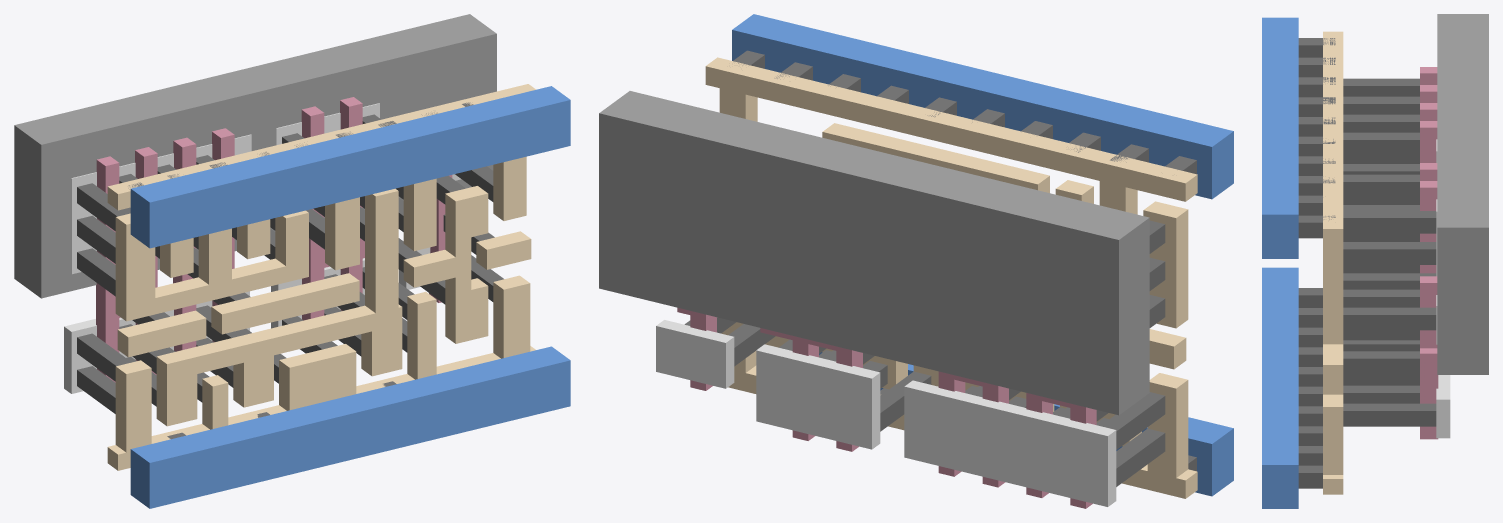
Rendered from sky130_fd_sc_hd__nor3b_2.gds.gltf.
3 views of the same model, side by side, from view 1: azimuth 30°, elevation 25°; view 2: azimuth 150°, elevation 25°; view 3: azimuth 270°, elevation 25° (orthographic). The views are drawn at different scales.
Parts seen in each view (by area): view 1: sky130_fd_sc_hd__nor3b_2_li1, sky130_fd_sc_hd__nor3b_2_met1, sky130_fd_sc_hd__nor3b_2_nwell, sky130_fd_sc_hd__nor3b_2_licon, sky130_fd_sc_hd__nor3b_2_poly, sky130_fd_sc_hd__nor3b_2_diff; view 2: sky130_fd_sc_hd__nor3b_2_nwell, sky130_fd_sc_hd__nor3b_2_li1, sky130_fd_sc_hd__nor3b_2_diff, sky130_fd_sc_hd__nor3b_2_met1, sky130_fd_sc_hd__nor3b_2_licon, sky130_fd_sc_hd__nor3b_2_poly, sky130_fd_sc_hd__nor3b_2_mcon; view 3: sky130_fd_sc_hd__nor3b_2_licon, sky130_fd_sc_hd__nor3b_2_nwell, sky130_fd_sc_hd__nor3b_2_met1, sky130_fd_sc_hd__nor3b_2_mcon, sky130_fd_sc_hd__nor3b_2_li1, sky130_fd_sc_hd__nor3b_2_poly, sky130_fd_sc_hd__nor3b_2_diff.
Boxes of the visible parts, bbox=[...] form: sky130_fd_sc_hd__nor3b_2_li1: bbox=[107, 84, 535, 470]; sky130_fd_sc_hd__nor3b_2_met1: bbox=[130, 86, 570, 508]; sky130_fd_sc_hd__nor3b_2_nwell: bbox=[14, 14, 496, 298]; sky130_fd_sc_hd__nor3b_2_licon: bbox=[77, 114, 503, 413]; sky130_fd_sc_hd__nor3b_2_poly: bbox=[96, 97, 452, 382]; sky130_fd_sc_hd__nor3b_2_diff: bbox=[64, 103, 461, 393]; sky130_fd_sc_hd__nor3b_2_nwell: bbox=[599, 91, 1149, 415]; sky130_fd_sc_hd__nor3b_2_li1: bbox=[705, 57, 1197, 498]; sky130_fd_sc_hd__nor3b_2_diff: bbox=[656, 320, 1116, 506]; sky130_fd_sc_hd__nor3b_2_met1: bbox=[732, 14, 1233, 496]; sky130_fd_sc_hd__nor3b_2_licon: bbox=[684, 220, 1165, 486]; sky130_fd_sc_hd__nor3b_2_poly: bbox=[677, 307, 1096, 508]; sky130_fd_sc_hd__nor3b_2_mcon: bbox=[733, 50, 1196, 471]; sky130_fd_sc_hd__nor3b_2_licon: bbox=[1343, 78, 1436, 426]; sky130_fd_sc_hd__nor3b_2_nwell: bbox=[1437, 14, 1488, 374]; sky130_fd_sc_hd__nor3b_2_met1: bbox=[1262, 17, 1298, 508]; sky130_fd_sc_hd__nor3b_2_mcon: bbox=[1298, 38, 1335, 488]; sky130_fd_sc_hd__nor3b_2_li1: bbox=[1323, 31, 1343, 494]; sky130_fd_sc_hd__nor3b_2_poly: bbox=[1420, 67, 1438, 439]; sky130_fd_sc_hd__nor3b_2_diff: bbox=[1436, 139, 1450, 438].
Bounding box in the file's own units: 4.98 × 3.2 × 2.24.
